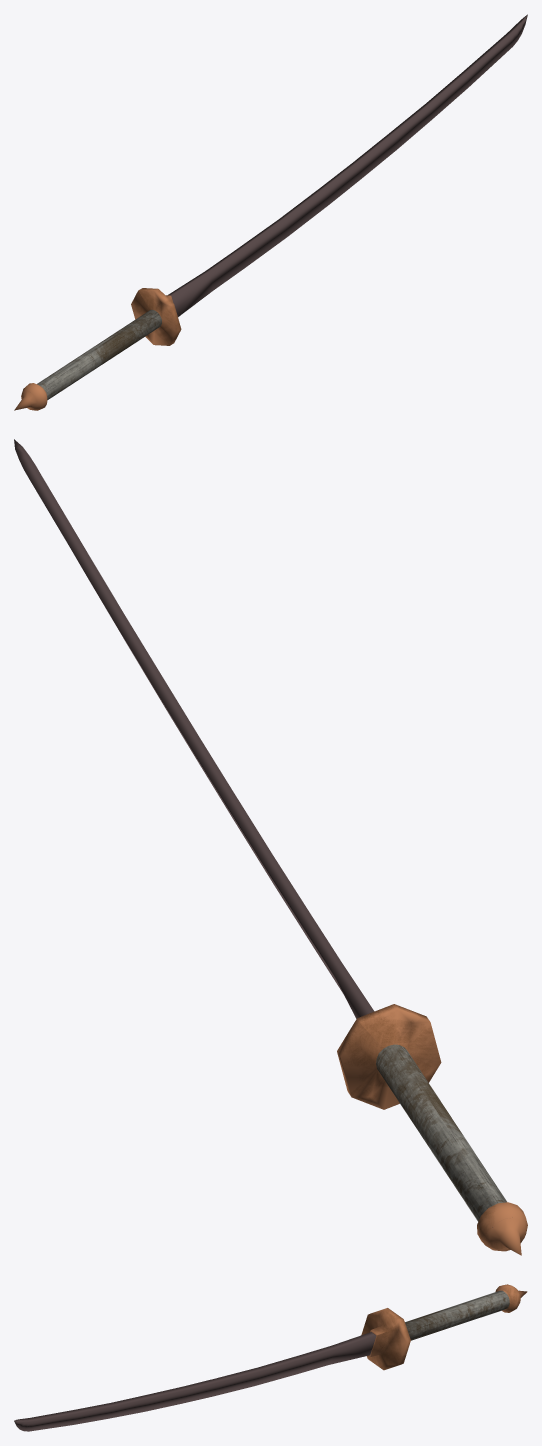
File: Anim_idle_katana_objetos.0041.obj
3 renders of one model, top to bottom at view 1: azimuth 90°, elevation 25°; view 2: azimuth 150°, elevation 25°; view 3: azimuth 270°, elevation 25°, orthographic. The views are drawn at different scales.
Visible parts, largest first — view 1: Katana1; view 2: Katana1; view 3: Katana1.
Boxes of the visible parts, x1,y1,x2,y2 form: Katana1: [14, 14, 527, 410]; Katana1: [14, 439, 527, 1255]; Katana1: [14, 1284, 527, 1431].
Size of the model in its own units: 4.06 by 1.03 by 3.36.
